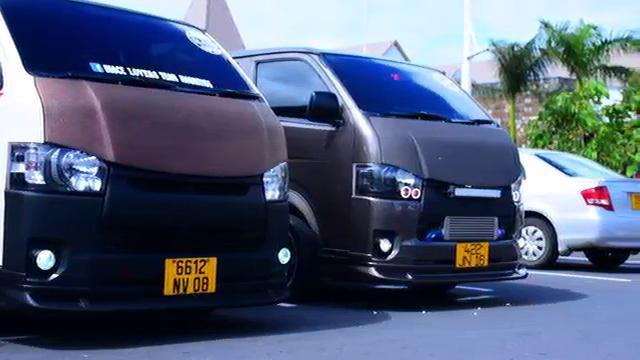Van: (0, 0, 289, 308), (231, 45, 531, 296)
